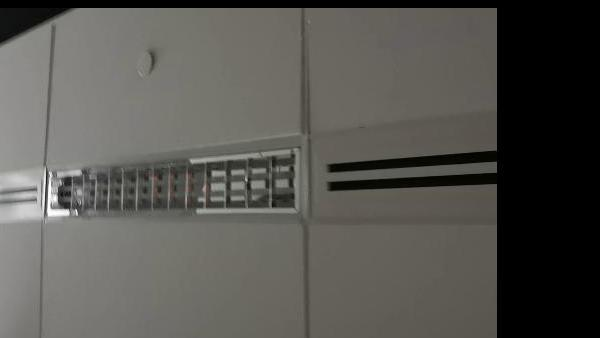light_off: (40, 126, 316, 240)
